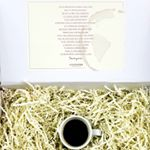cups: (56, 115, 103, 150)
